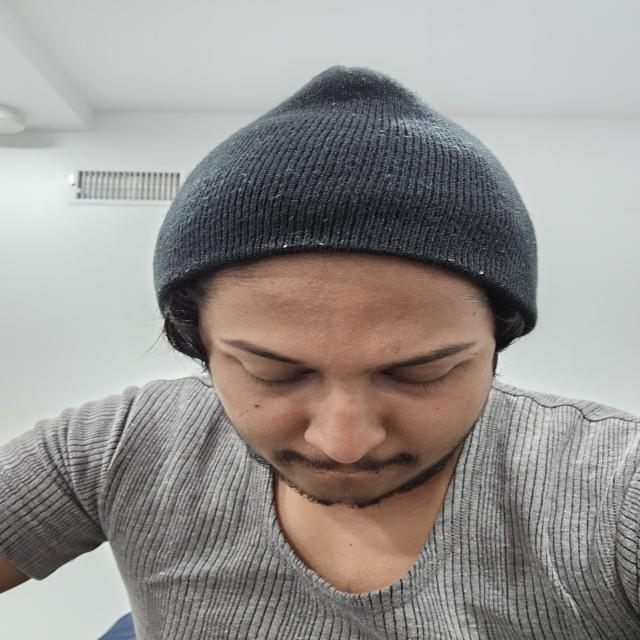cap: (108, 61, 602, 331)
